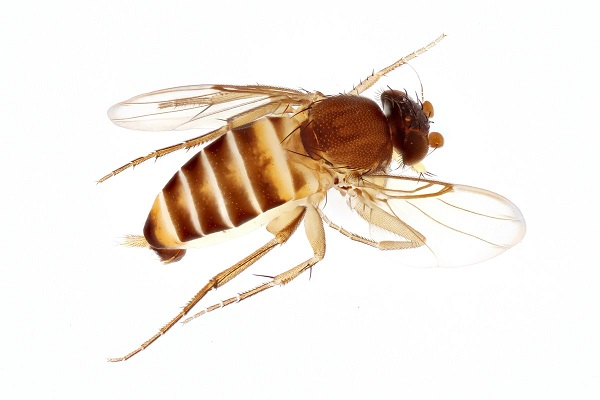phorid fly: (64, 13, 539, 384)
